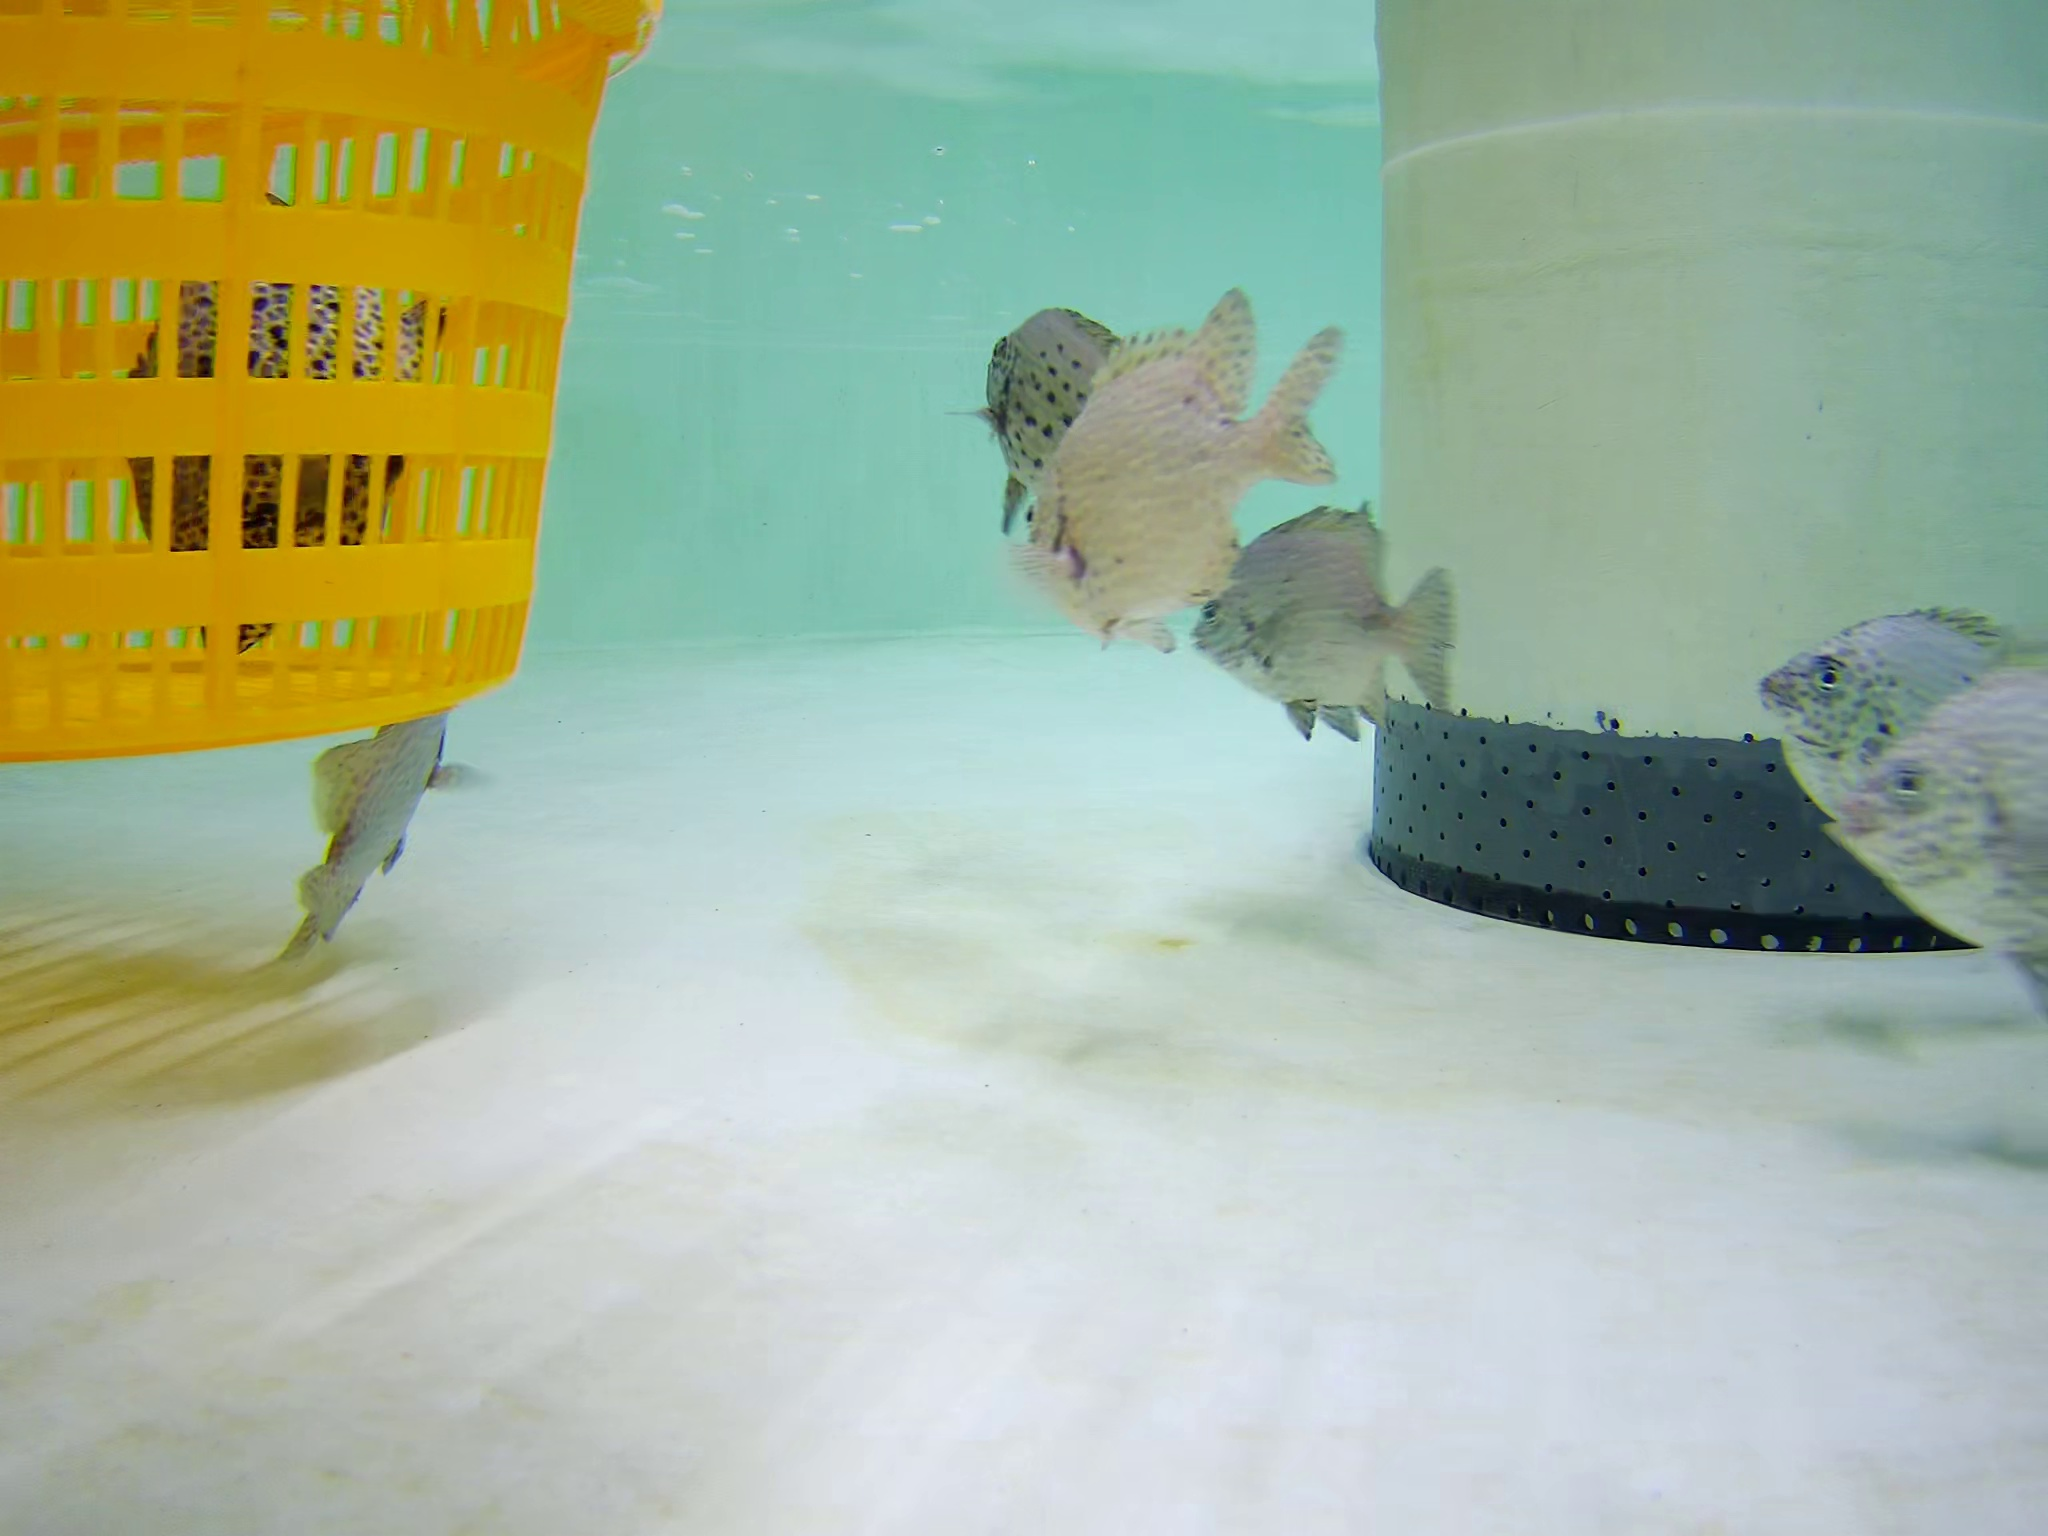fish: (127, 177, 463, 663), (972, 294, 1343, 615), (1809, 628, 2048, 962), (1758, 602, 2024, 868), (269, 666, 492, 957), (1190, 503, 1461, 734), (964, 308, 1135, 515)
